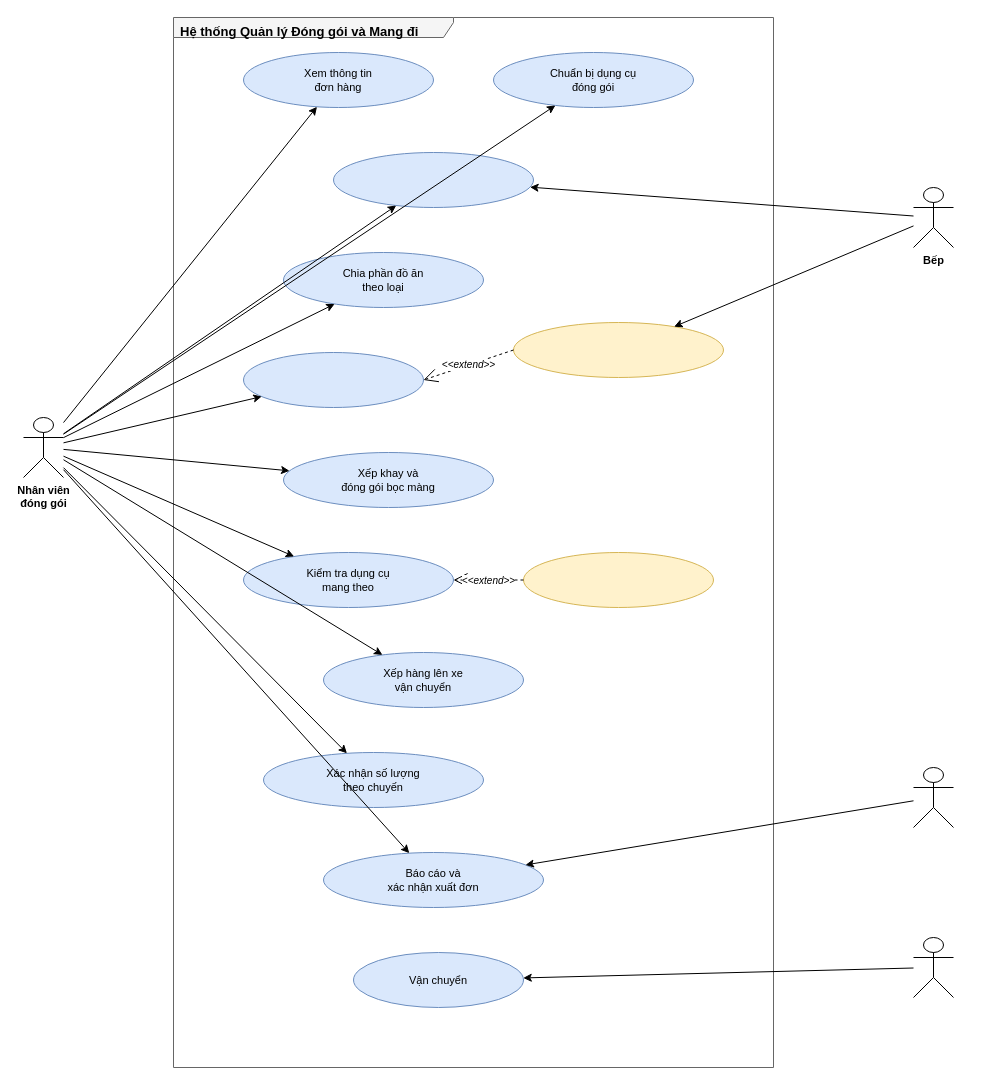
Image size: 990x1085. Some labels were removed from this diagram. The shapes that lost their labels are listed below. From the top down, each one's box as (x1, y1, x2, y2) in pixels, then its label:
(332, 152, 534, 208): Tiếp nhận đồ ăn từ bếp
(512, 322, 724, 378): Yêu cầu chế biến bổ sung
(242, 352, 424, 408): Kiểm tra số lượng
(522, 552, 714, 608): Bổ sung dụng cụ
(912, 766, 954, 828): Quản lý
(912, 936, 954, 998): NV vận chuyển
